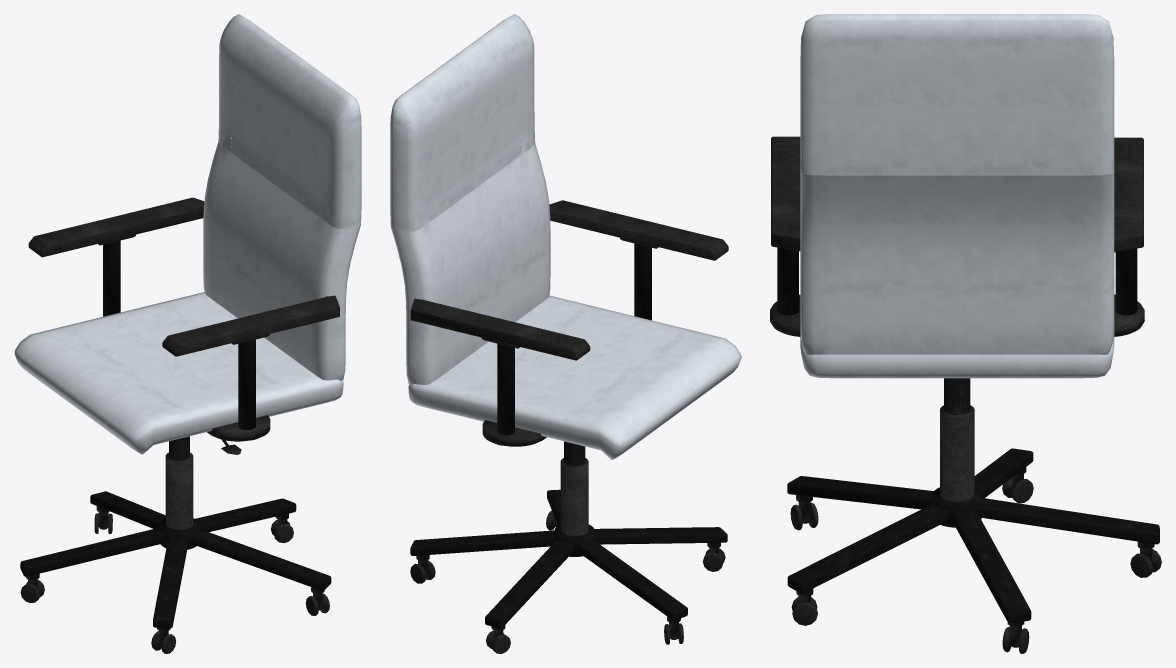
File: SM_Chair_1.glb
The picture shows the model from 3 angles, left to right: view 1: azimuth 30°, elevation 25°; view 2: azimuth 150°, elevation 25°; view 3: azimuth 270°, elevation 25°; orthographic projection. The views are drawn at different scales.
Bounding box in the file's own units: 0.7769 × 1.38 × 0.7774.
Materials: 3 (3 with a texture image).
